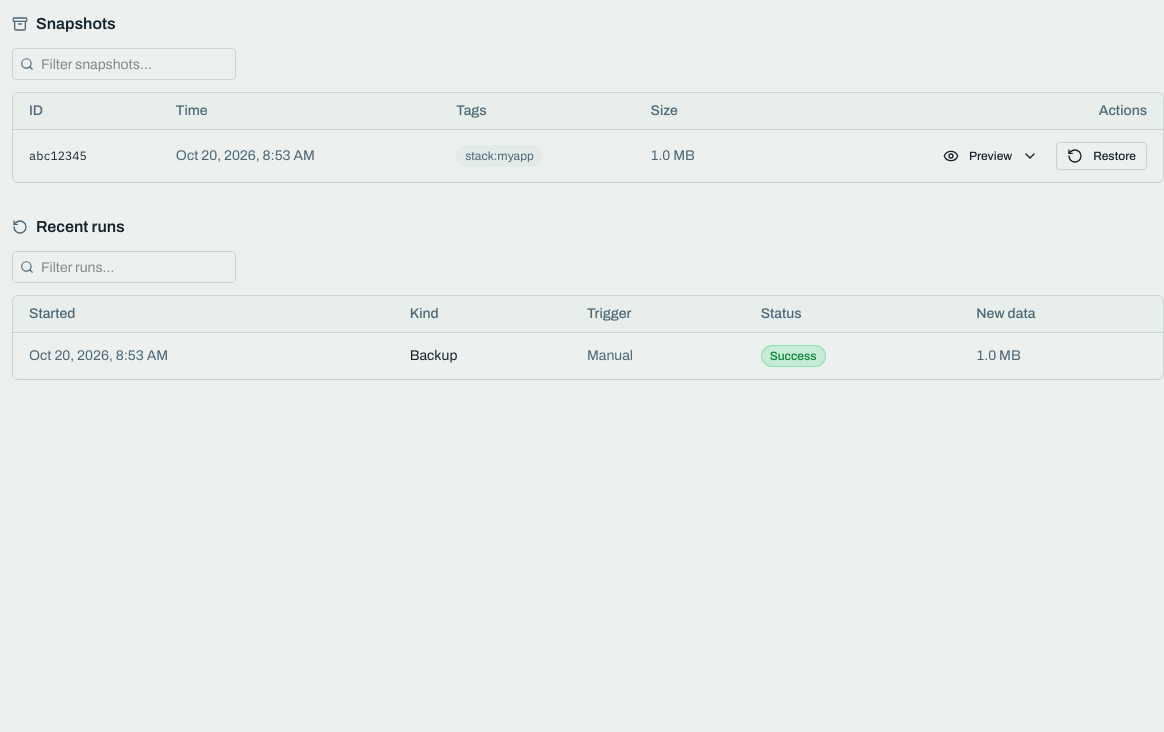
Scenario: BackupsTab — snapshot preview panel › closes preview panel when close button is clicked
Click the button with aria-label "show preview" at (991, 156), box x1=933 y1=142 x2=1048 y2=170
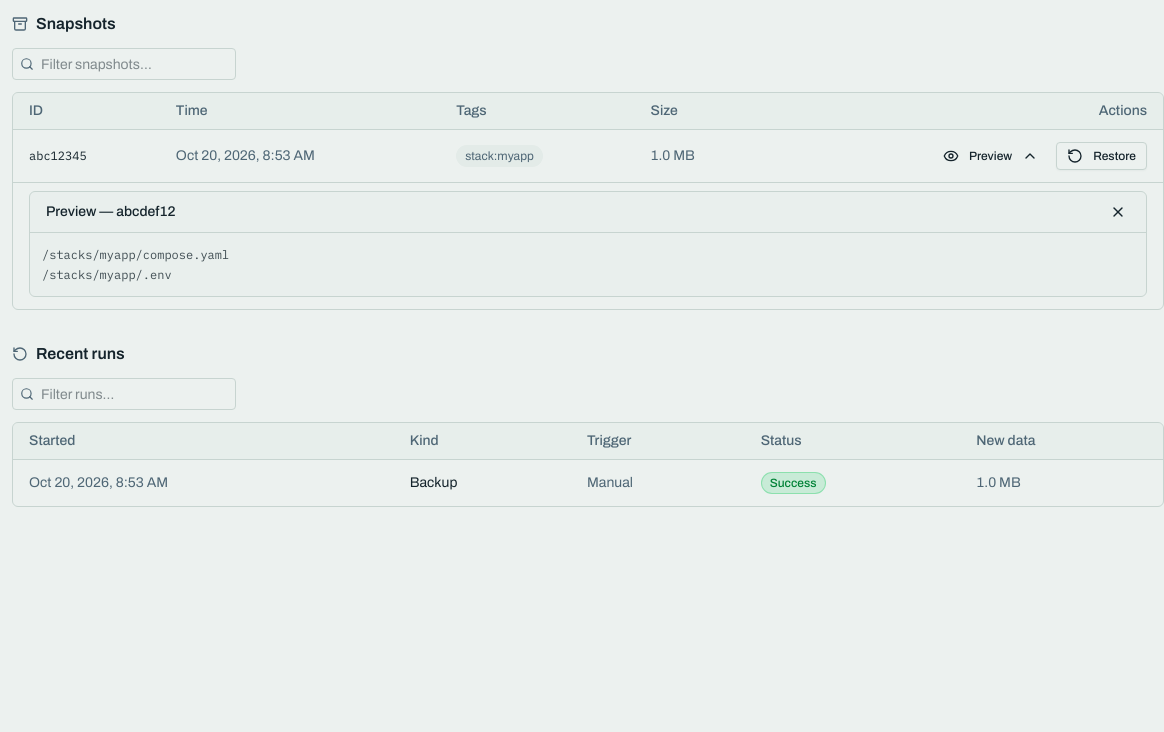
Expected: the text "/stacks/myapp/compose.yaml" is shown, x1=42 y1=247 x2=229 y2=262
Click the button named "Close preview" at (1118, 212), box x1=1106 y1=200 x2=1130 y2=224
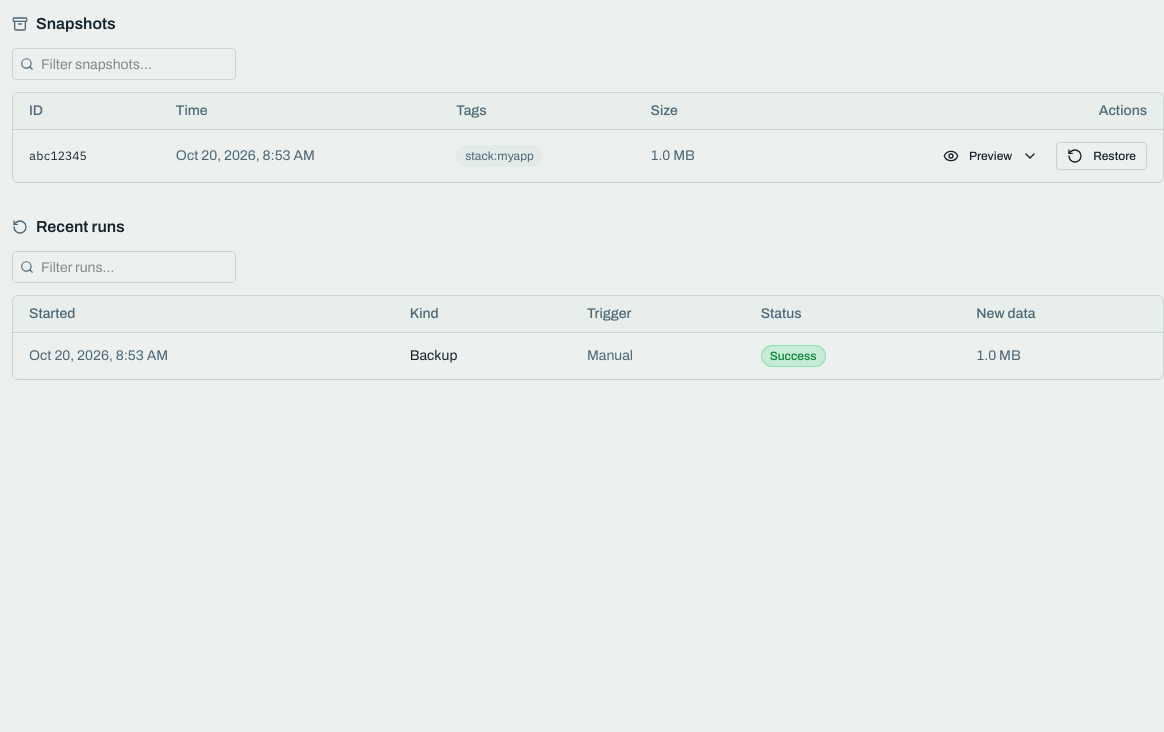
Expected: the text "/stacks/myapp/compose.yaml" is gone
